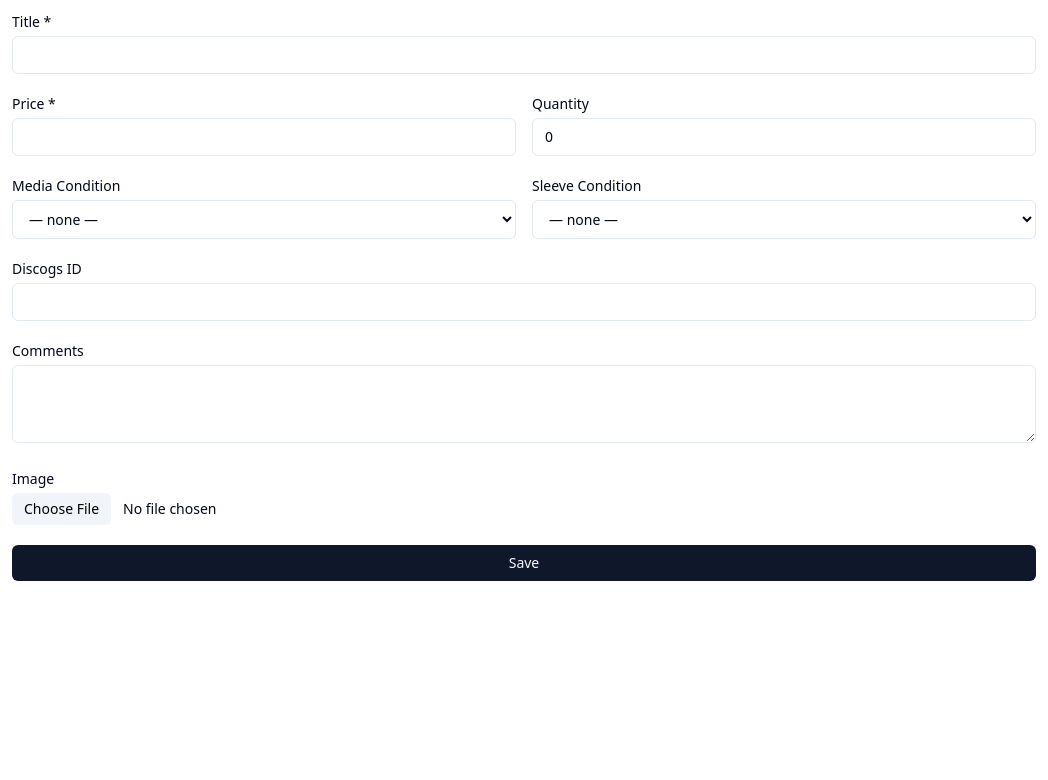
Test: ItemForm — validation › shows "Title is required" when submitted with an empty title
Click the button "Save" at [524, 563], box [12,545,1036,581]
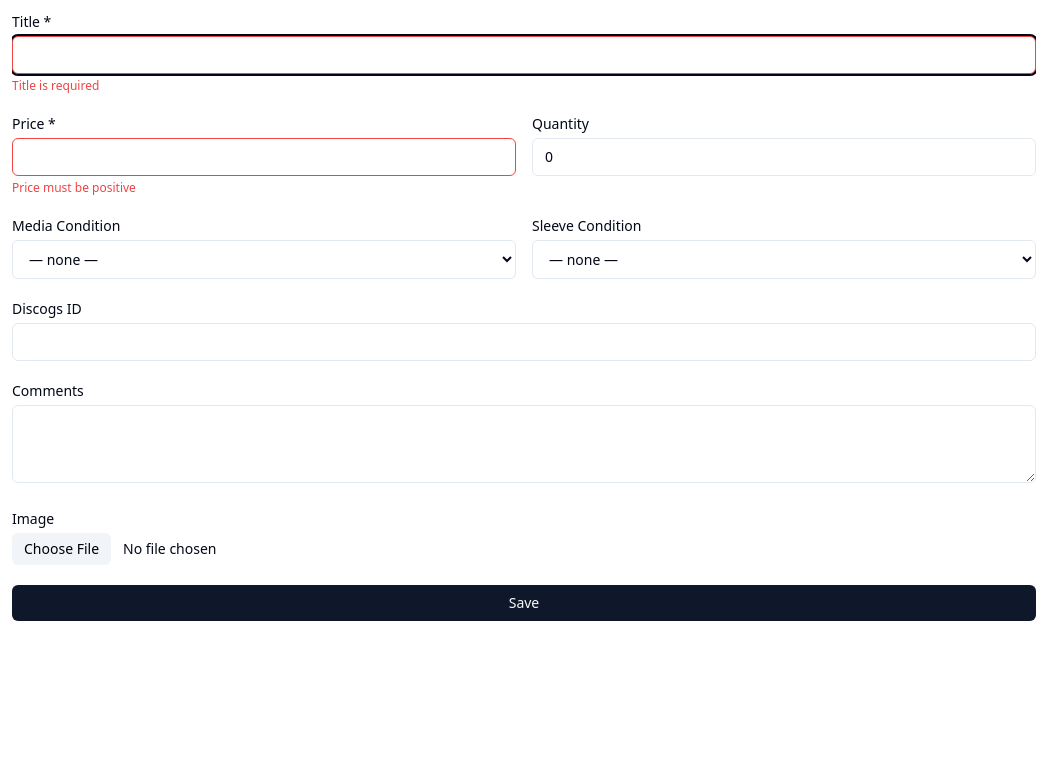
Result: the text "Title is required" is shown at [12,77,99,94]
